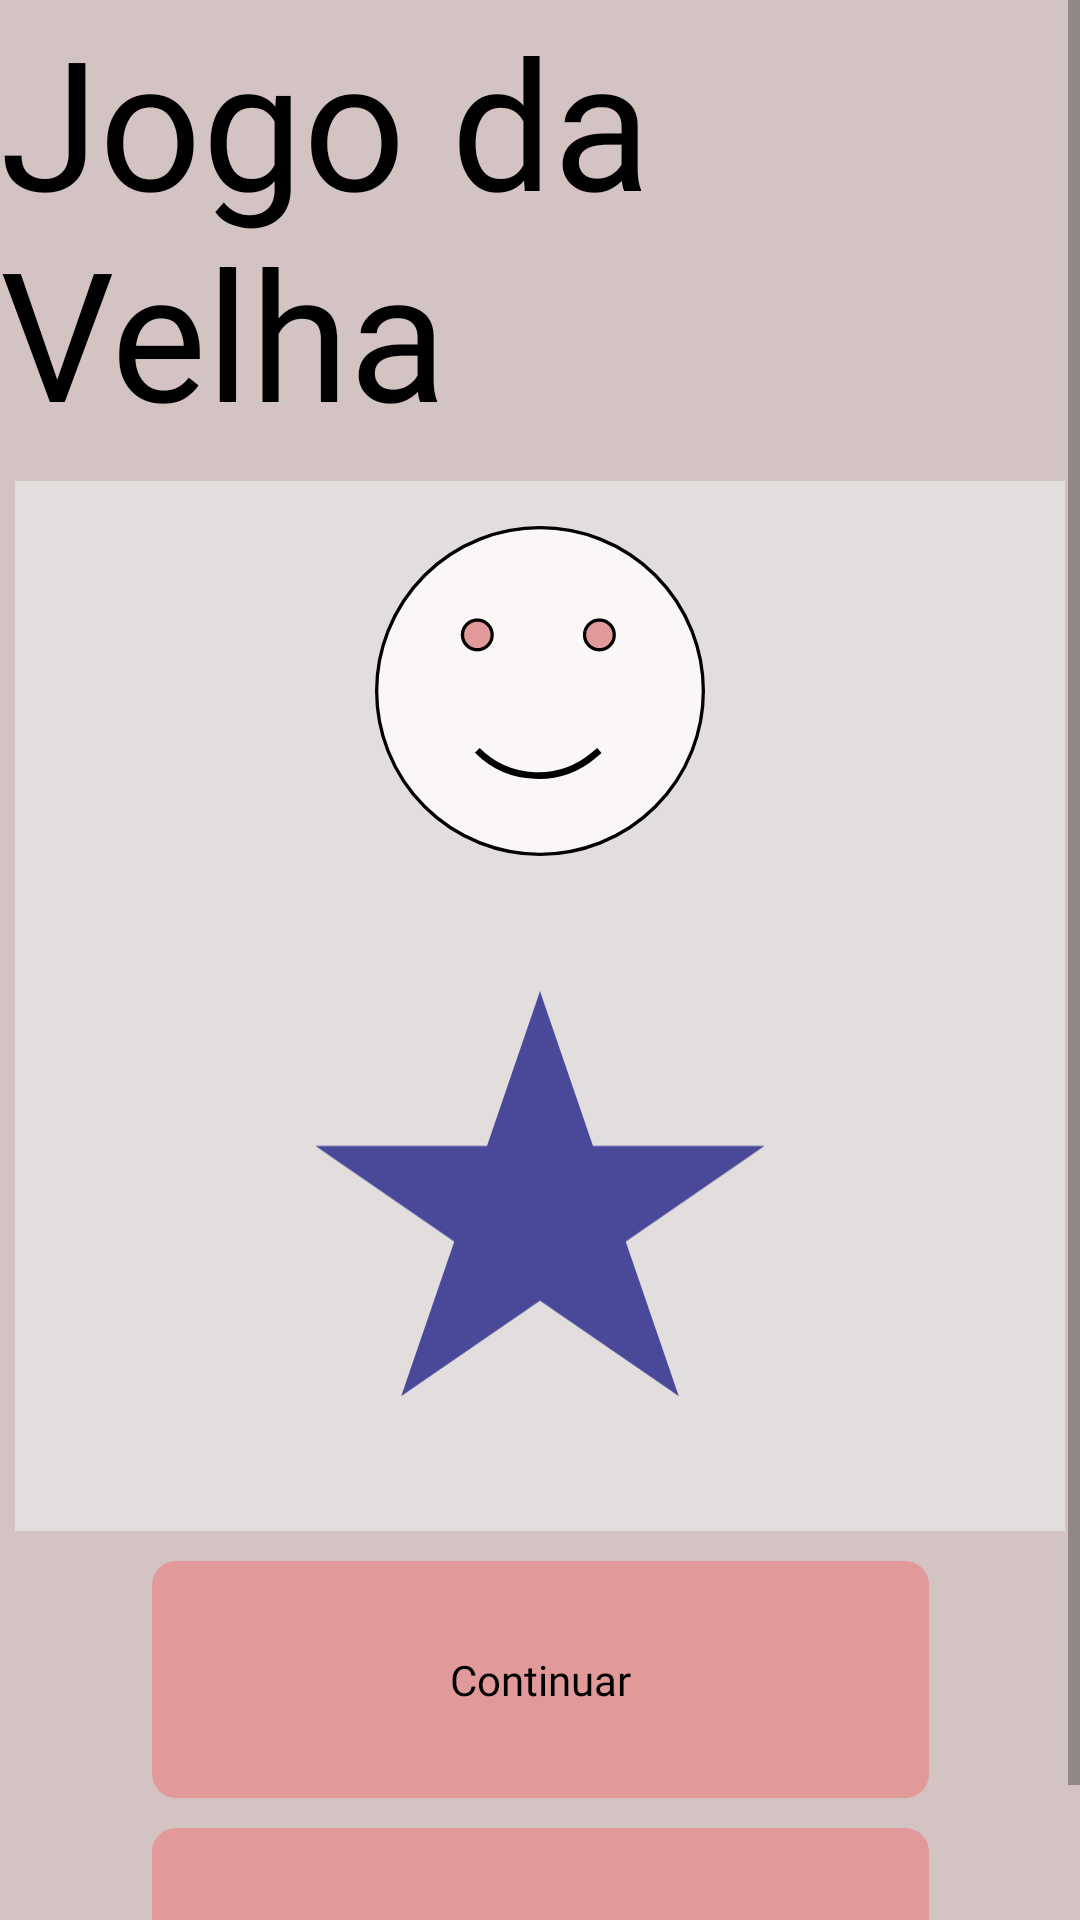

Icons on this 1080px x 1920px Android screen, each with its box as (left=x1, top=y1, right=x2, bottom=y2):
Emoji de resultado: (left=375, top=526, right=705, bottom=856)
